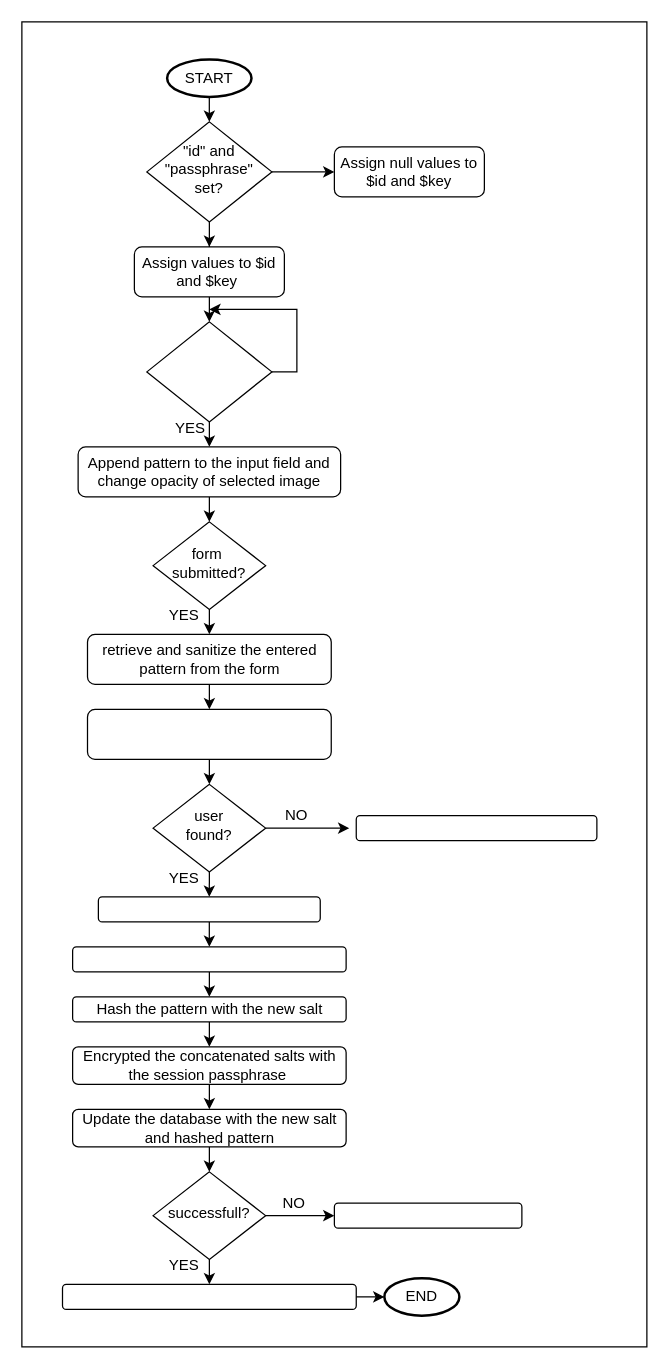
This 669x1369 diagram has some shape labels left out. Each missing label, with the centre of its shape:
Display "Pictorial Password Added" alert: (x=208, y=1296)
Display alert message: (x=427, y=1215)
End of form submission handling: (x=476, y=827)
Generate a new salt for the pattern: (x=208, y=959)
Query database to retrieve user details based on the session ID: (x=208, y=733)
retrieve the stored salt: (x=208, y=909)
segmented image clicked?: (x=209, y=371)
